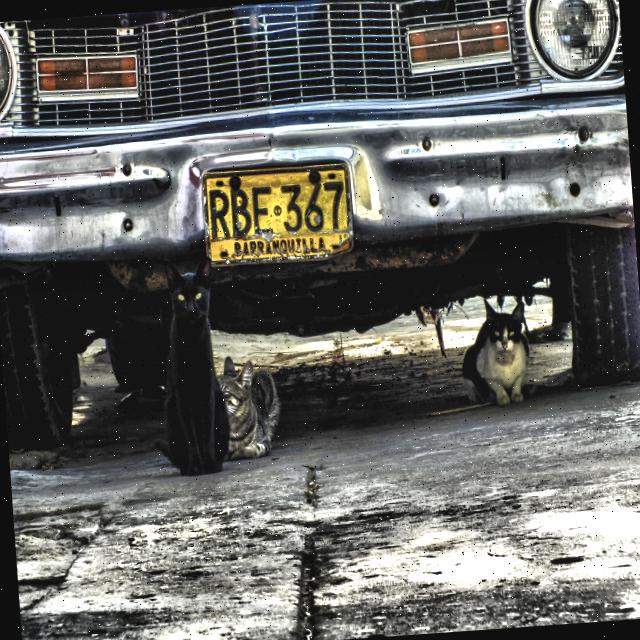plate: (205, 167, 351, 263)
